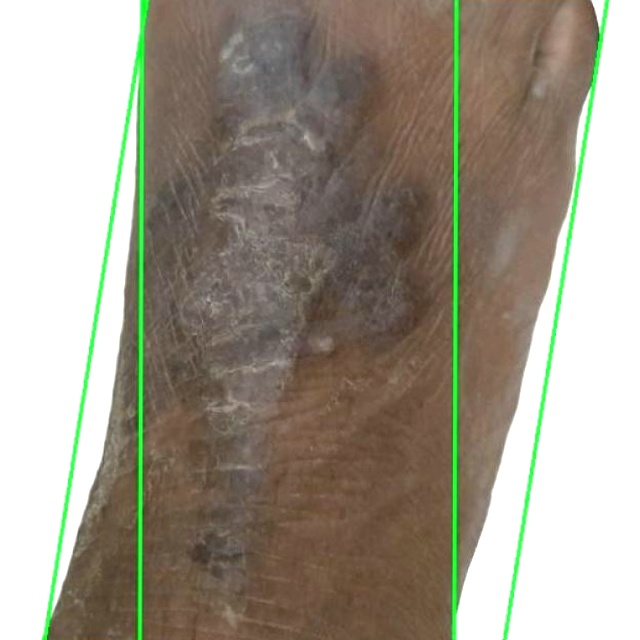Eczema: (43, 0, 606, 639), (454, 0, 639, 639), (0, 0, 142, 639)
